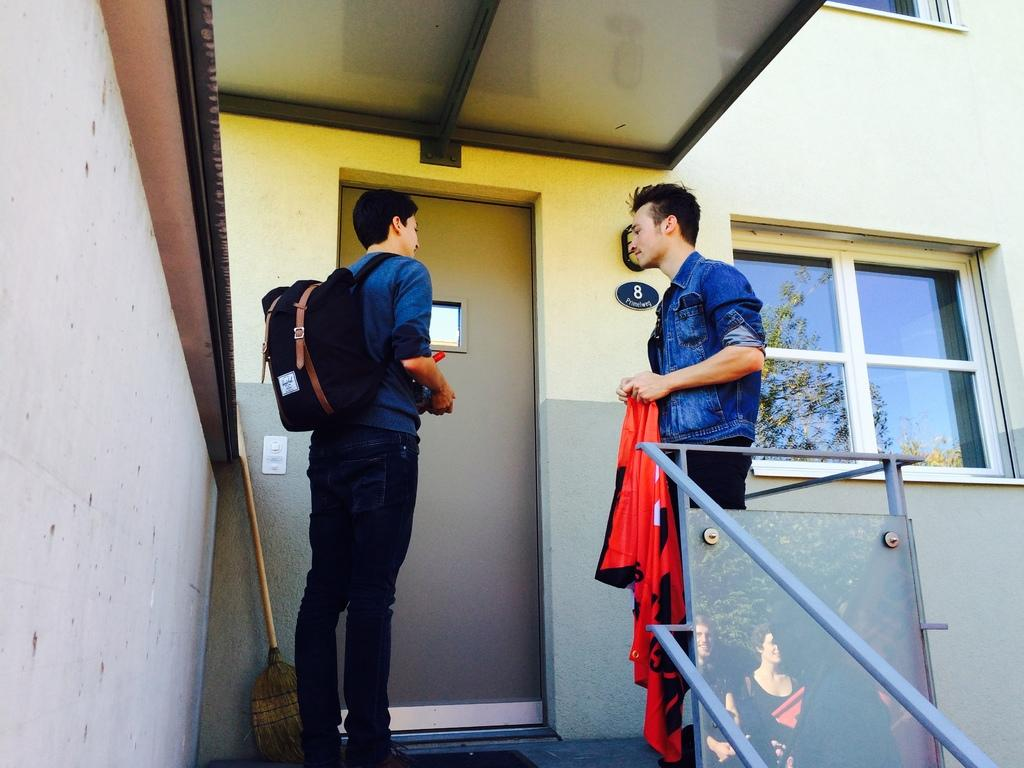Luggage-and-bags: (262, 246, 401, 421)
